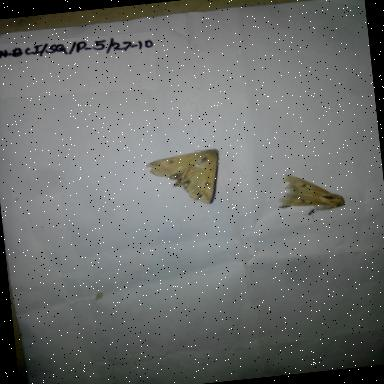abw: (140, 136, 242, 216), (274, 161, 360, 225)
